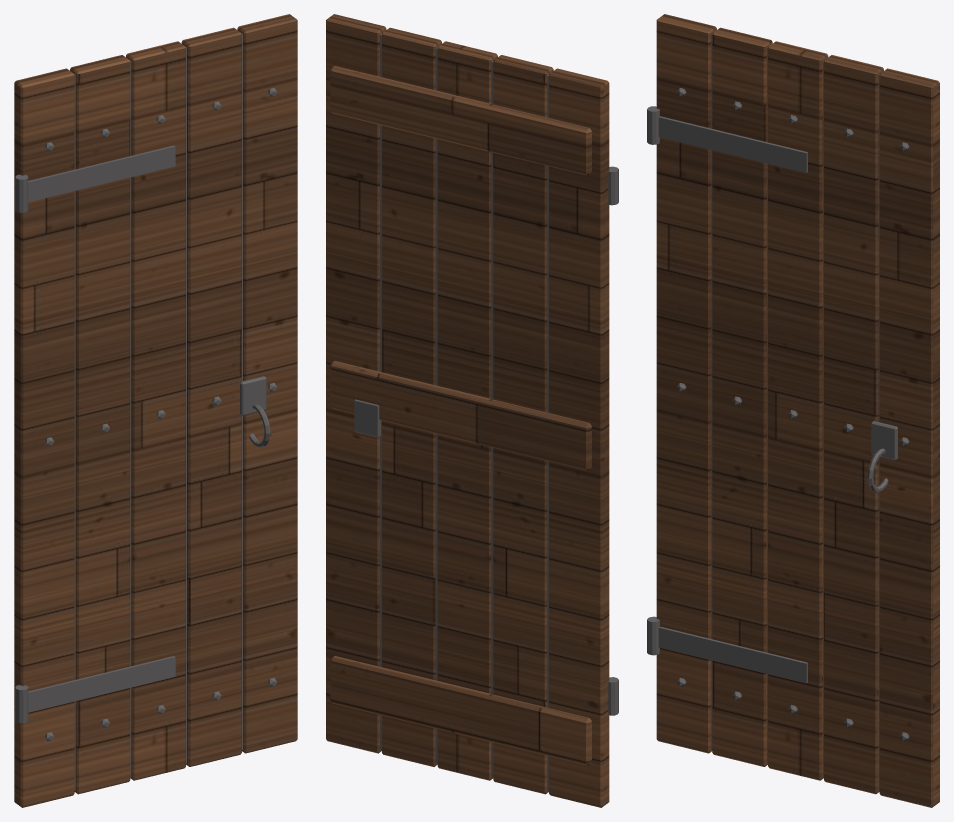
Rendered from door_leaf_casita.glb.
3 views of the same model, side by side, from view 1: azimuth 30°, elevation 25°; view 2: azimuth 150°, elevation 25°; view 3: azimuth 330°, elevation 25° (orthographic).
Parts seen in each view (by area): view 1: door_leaf_casita_wood, door_leaf_casita_iron, door_leaf_casita_dark; view 2: door_leaf_casita_wood, door_leaf_casita_dark, door_leaf_casita_iron; view 3: door_leaf_casita_wood, door_leaf_casita_iron, door_leaf_casita_dark.
Part boxes in pixels (<box>): door_leaf_casita_wood: <box>14,14,297,807</box>; door_leaf_casita_iron: <box>15,88,277,741</box>; door_leaf_casita_dark: <box>74,33,242,790</box>; door_leaf_casita_wood: <box>326,14,609,807</box>; door_leaf_casita_dark: <box>380,33,550,791</box>; door_leaf_casita_iron: <box>354,166,618,715</box>; door_leaf_casita_wood: <box>656,14,939,807</box>; door_leaf_casita_iron: <box>647,88,909,741</box>; door_leaf_casita_dark: <box>711,33,879,790</box>.
Bounding box in the file's own units: 0.895 × 2.18 × 0.168.
Materials: 3 (1 with a texture image).
